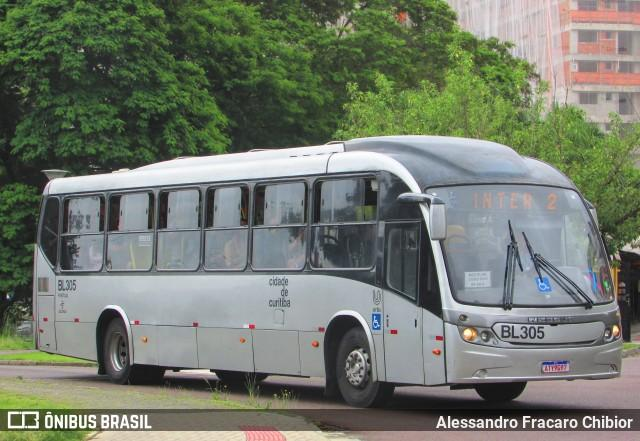INTER2: (466, 188, 561, 215)
